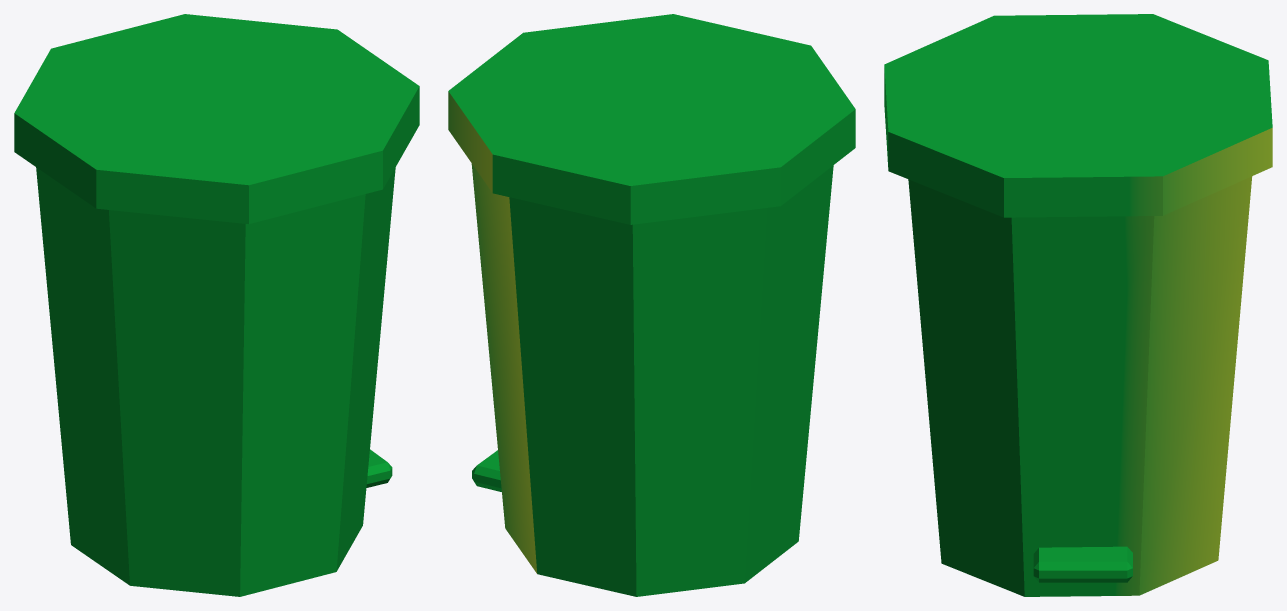
File: Caneca verde .fbx
The picture shows the model from 3 angles, left to right: view 1: azimuth 30°, elevation 25°; view 2: azimuth 150°, elevation 25°; view 3: azimuth 270°, elevation 25°; orthographic projection.
Visible parts, largest first — view 1: papelera verde.001, papelera verde.002; view 2: papelera verde.001, papelera verde.002; view 3: papelera verde.001, papelera verde.002.
Part boxes in pixels (left/top/right/bottom): papelera verde.001: left=36, top=167, right=395, bottom=596; papelera verde.002: left=14, top=14, right=419, bottom=223; papelera verde.001: left=471, top=163, right=833, bottom=596; papelera verde.002: left=448, top=14, right=855, bottom=224; papelera verde.001: left=908, top=176, right=1252, bottom=596; papelera verde.002: left=884, top=14, right=1272, bottom=217.
Bounding box in the file's own units: 27.99 × 35.13 × 27.99.
Materials: 2 (2 with a texture image).
